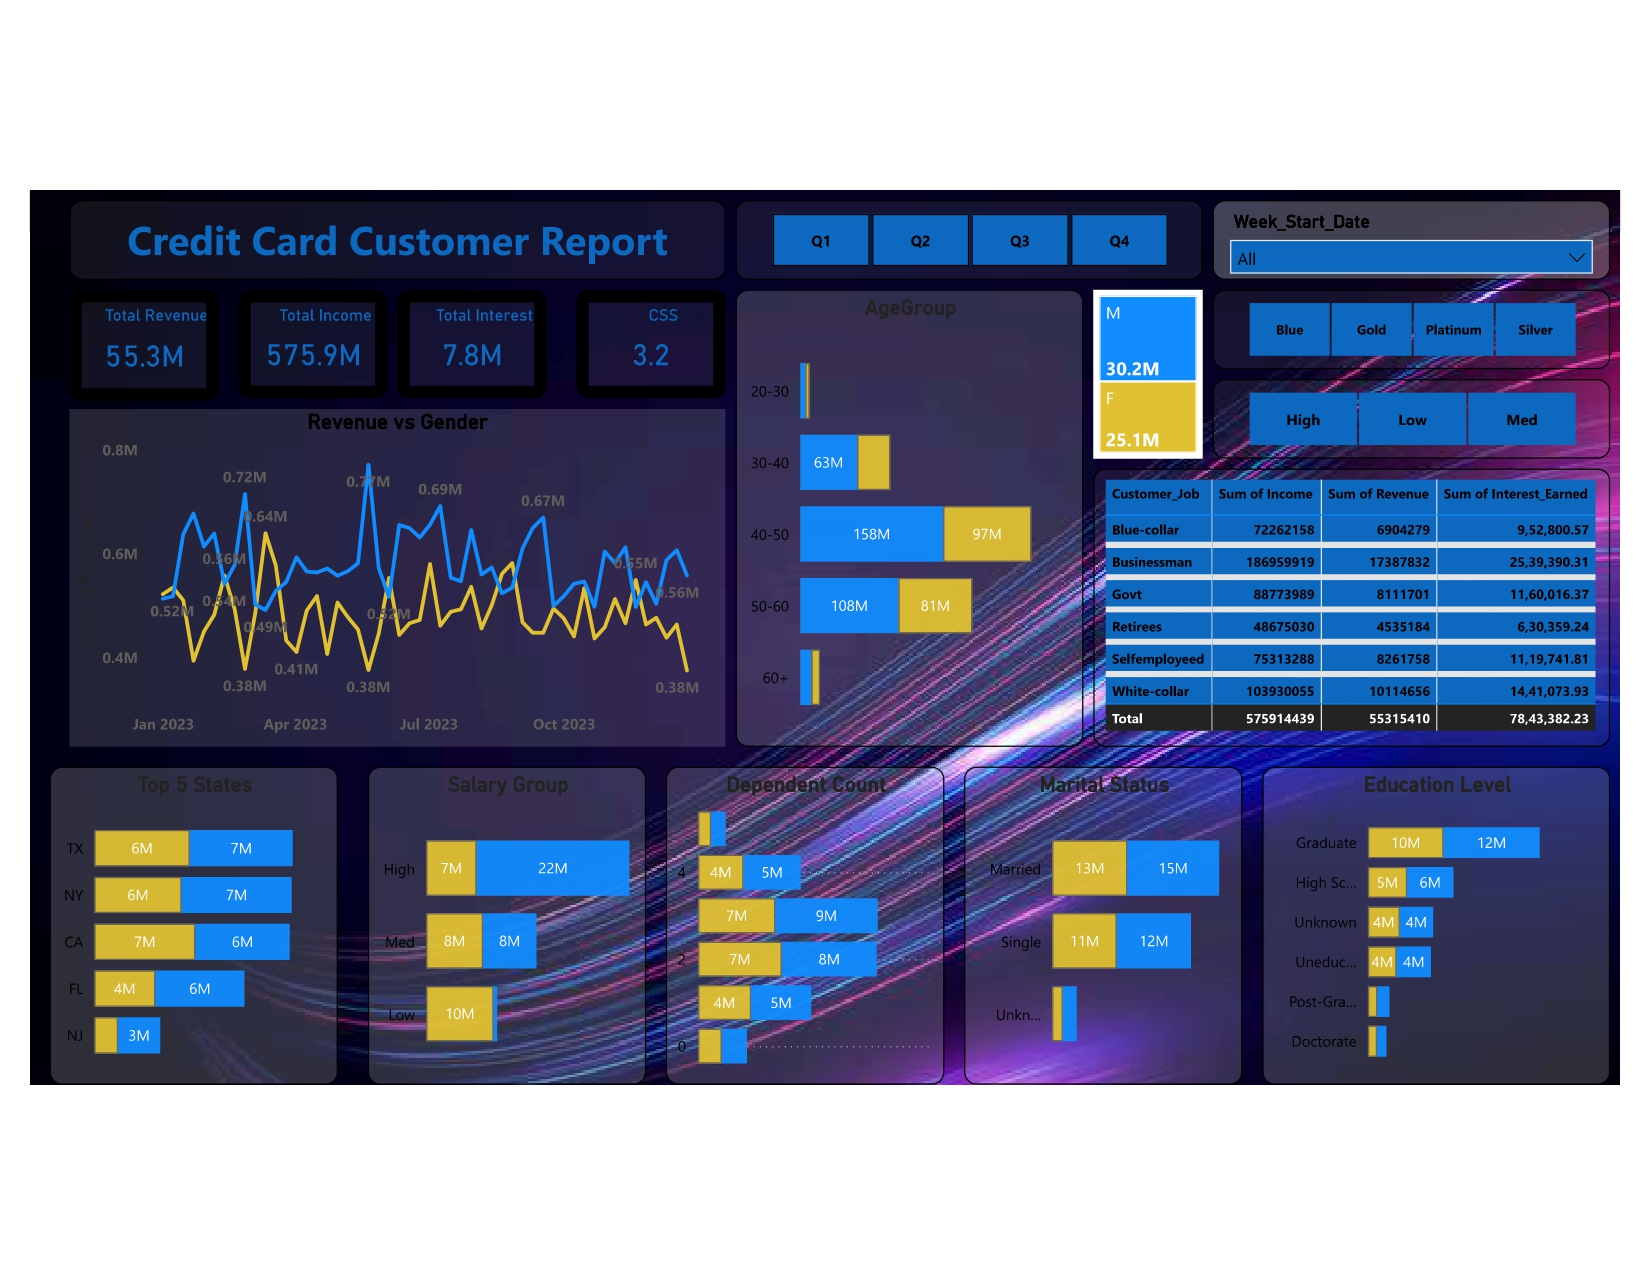

The dashboard page shown, as its layout file describes it:
{"tool":"powerbi","page":{"name":"CC Customer","canvas":[1280,720],"ordinal":1},"visuals":[{"type":"textbox","box":[32,8,528,64],"z":0},{"type":"barChart","title":"Top 5 States","fields":{"Y":["Sum(credit_card.Revenue)"],"Category":["customer.state_cd"],"Series":["customer.Gender"]},"box":[16,464,232,256],"z":1000},{"type":"tableEx","fields":{"Values":["customer.Customer_Job","Sum(customer.Income)","Sum(credit_card.Revenue)","Sum(credit_card.Interest_Earned)"]},"box":[856,224,416,224],"z":2000},{"type":"card","title":"Total Revenue","fields":{"Values":["Sum(credit_card.Revenue)"]},"box":[32,80,120,90],"z":3000},{"type":"card","title":"Total Income","fields":{"Values":["Sum(customer.Income)"]},"box":[168,80,120,88],"z":4000},{"type":"card","title":"Total Interest","fields":{"Values":["Sum(credit_card.Interest_Earned)"]},"box":[296,80,120,88],"z":5000},{"type":"card","title":"CSS ","fields":{"Values":["Avg(customer.Cust_Satisfaction_Score)"]},"box":[440,80,120,88],"z":6000},{"type":"slicer","fields":{"Values":["credit_card.Week_Start_Date"]},"box":[952,8,320,64],"z":7000},{"type":"slicer","fields":{"Values":["credit_card.Qtr"]},"box":[568,8,376,64],"z":8000},{"type":"slicer","fields":{"Values":["customer.IncomeGroup"]},"box":[952,152,320,64],"z":9000},{"type":"slicer","fields":{"Values":["credit_card.Card_Category"]},"box":[952,80,320,64],"z":10000},{"type":"lineChart","title":"Revenue vs Gender","fields":{"Y":["Sum(credit_card.Revenue)"],"Series":["customer.Gender"],"Category":["credit_card.Week_Start_Date.Variation.Date Hierarchy.Year","credit_card.Week_Start_Date.Variation.Date Hierarchy.Month","credit_card.Week_Start_Date.Variation.Date Hierarchy.Day"]},"box":[32,176,528,272],"z":11000},{"type":"treemap","fields":{"Group":["customer.Gender"],"Values":["Sum(credit_card.Revenue)"]},"box":[856,80,88,136],"z":12000},{"type":"barChart","title":"AgeGroup","fields":{"Category":["customer.AgeGroup"],"Series":["customer.Gender"],"Y":["Sum(customer.Income)"]},"box":[568,80,280,368],"z":13000},{"type":"barChart","title":"Salary Group","fields":{"Y":["Sum(credit_card.Revenue)"],"Category":["customer.IncomeGroup"],"Series":["customer.Gender"]},"box":[272,464,224,256],"z":14000},{"type":"barChart","title":"Dependent Count","fields":{"Y":["Sum(credit_card.Revenue)"],"Category":["customer.Dependent_Count"],"Series":["customer.Gender"]},"box":[512,464,224,256],"z":15000},{"type":"barChart","title":"Marital Status","fields":{"Y":["Sum(credit_card.Revenue)"],"Category":["customer.Marital_Status"],"Series":["customer.Gender"]},"box":[752,464,224,256],"z":16000},{"type":"barChart","title":"Education Level","fields":{"Y":["Sum(credit_card.Revenue)"],"Category":["customer.Education_Level"],"Series":["customer.Gender"]},"box":[992,464,280,256],"z":17000}]}

Visuals, with their boxes on the page's 1280x720 design canvas (x1, y1, x2, y2). These are canvas units, not pixel positions in the 1650x1275 screenshot, which may show the page scaled, cropped or inside an application window:
textbox: <box>32,8,560,72</box>
"Top 5 States" barChart: <box>16,464,248,720</box>
tableEx - customer.Customer_Job x Sum(customer.Income): <box>856,224,1272,448</box>
"Total Revenue" card: <box>32,80,152,170</box>
"Total Income" card: <box>168,80,288,168</box>
"Total Interest" card: <box>296,80,416,168</box>
"CSS " card: <box>440,80,560,168</box>
slicer - credit_card.Week_Start_Date: <box>952,8,1272,72</box>
slicer - credit_card.Qtr: <box>568,8,944,72</box>
slicer - customer.IncomeGroup: <box>952,152,1272,216</box>
slicer - credit_card.Card_Category: <box>952,80,1272,144</box>
"Revenue vs Gender" lineChart: <box>32,176,560,448</box>
treemap - customer.Gender x Sum(credit_card.Revenue): <box>856,80,944,216</box>
"AgeGroup" barChart: <box>568,80,848,448</box>
"Salary Group" barChart: <box>272,464,496,720</box>
"Dependent Count" barChart: <box>512,464,736,720</box>
"Marital Status" barChart: <box>752,464,976,720</box>
"Education Level" barChart: <box>992,464,1272,720</box>
